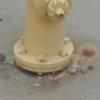Hydrant: (11, 5, 80, 81)
